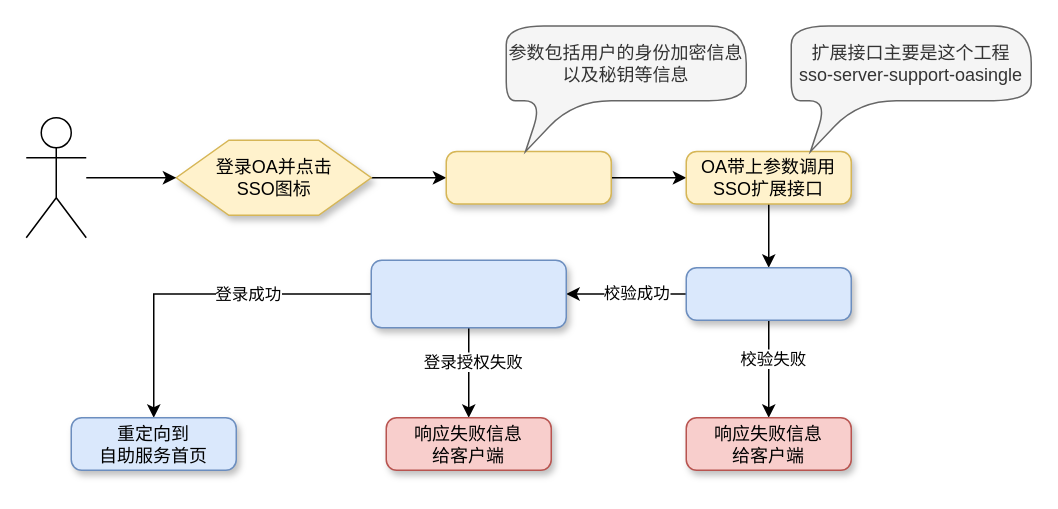
Image size: 1058x509. Some labels were removed from this diagram. Here are the shapes that lost their labels. From the top down, the centre of each, then its label:
the point at 55,177: Actor
the point at 529,179: OA动态生成 鉴权参数
the point at 469,295: SSO构造用户登录信息并调用内部登录接口
the point at 769,295: SSO校验OA 传入参数
